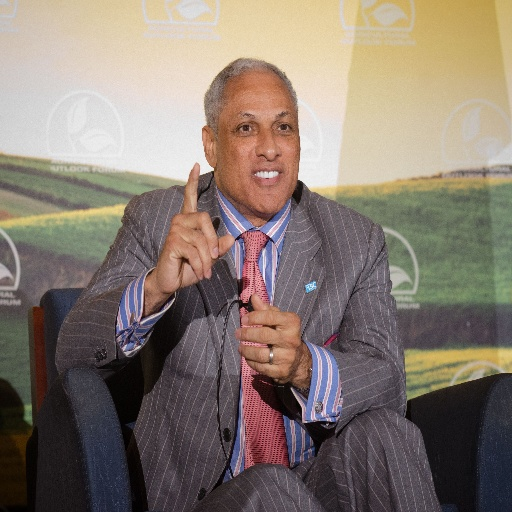hand: (152, 160, 235, 294), (234, 296, 309, 385)
